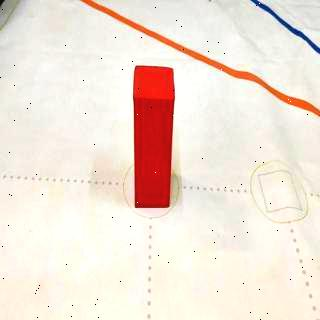redbox: (134, 64, 174, 208)
